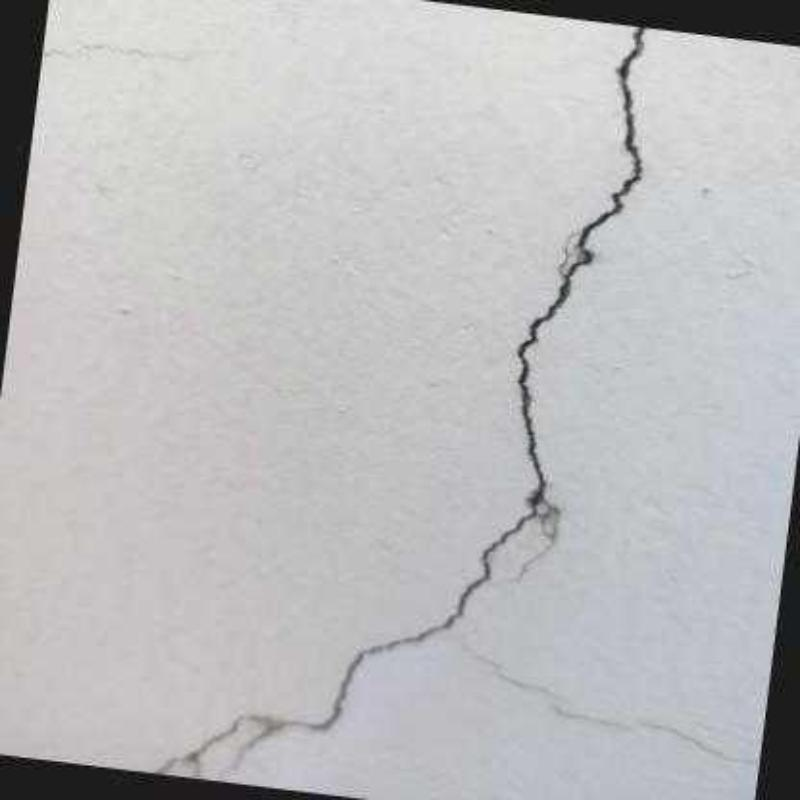pothole: (149, 25, 656, 779), (454, 627, 763, 767), (504, 498, 562, 585), (44, 46, 188, 62), (231, 727, 281, 767)
